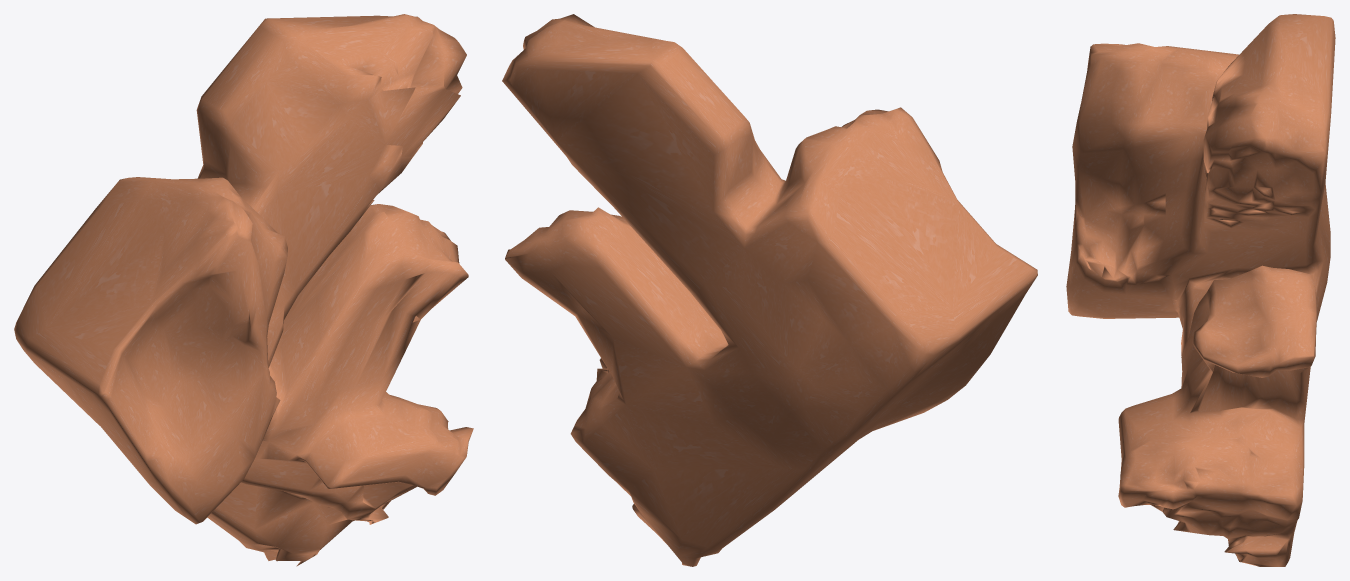
Rendered from Copper 3.fbx.
3 views of the same model, side by side, from view 1: azimuth 30°, elevation 25°; view 2: azimuth 150°, elevation 25°; view 3: azimuth 270°, elevation 25° (orthographic). The views are drawn at different scales.
Visible parts, largest first — view 1: C3; view 2: C3; view 3: C3.
Boxes of the visible parts, <box> form: C3: <box>14,14,473,566</box>; C3: <box>502,14,1037,566</box>; C3: <box>1066,14,1335,566</box>.
Bounding box in the file's own units: 127 × 144 × 63.04.
1 material, 1 textured.
